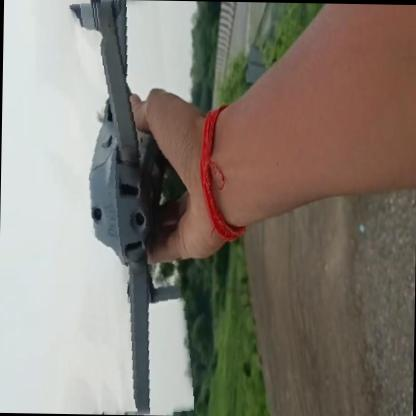drone: (70, 0, 189, 415)
